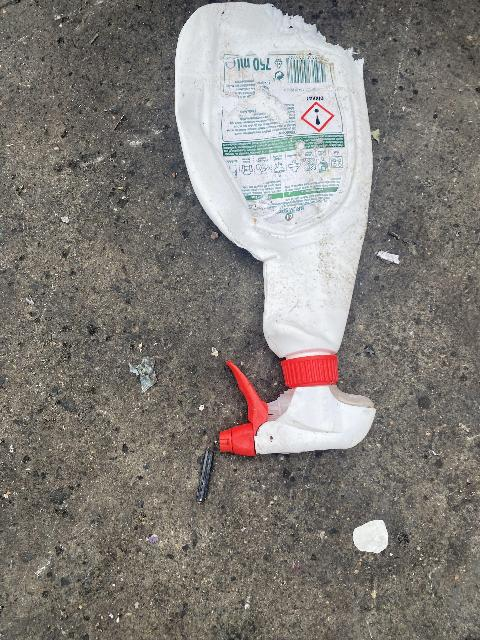Kagit: (349, 516, 395, 554)
Plastik: (171, 0, 384, 454)
